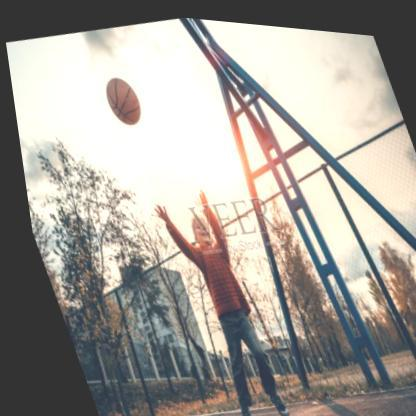basketball: (98, 71, 144, 127)
